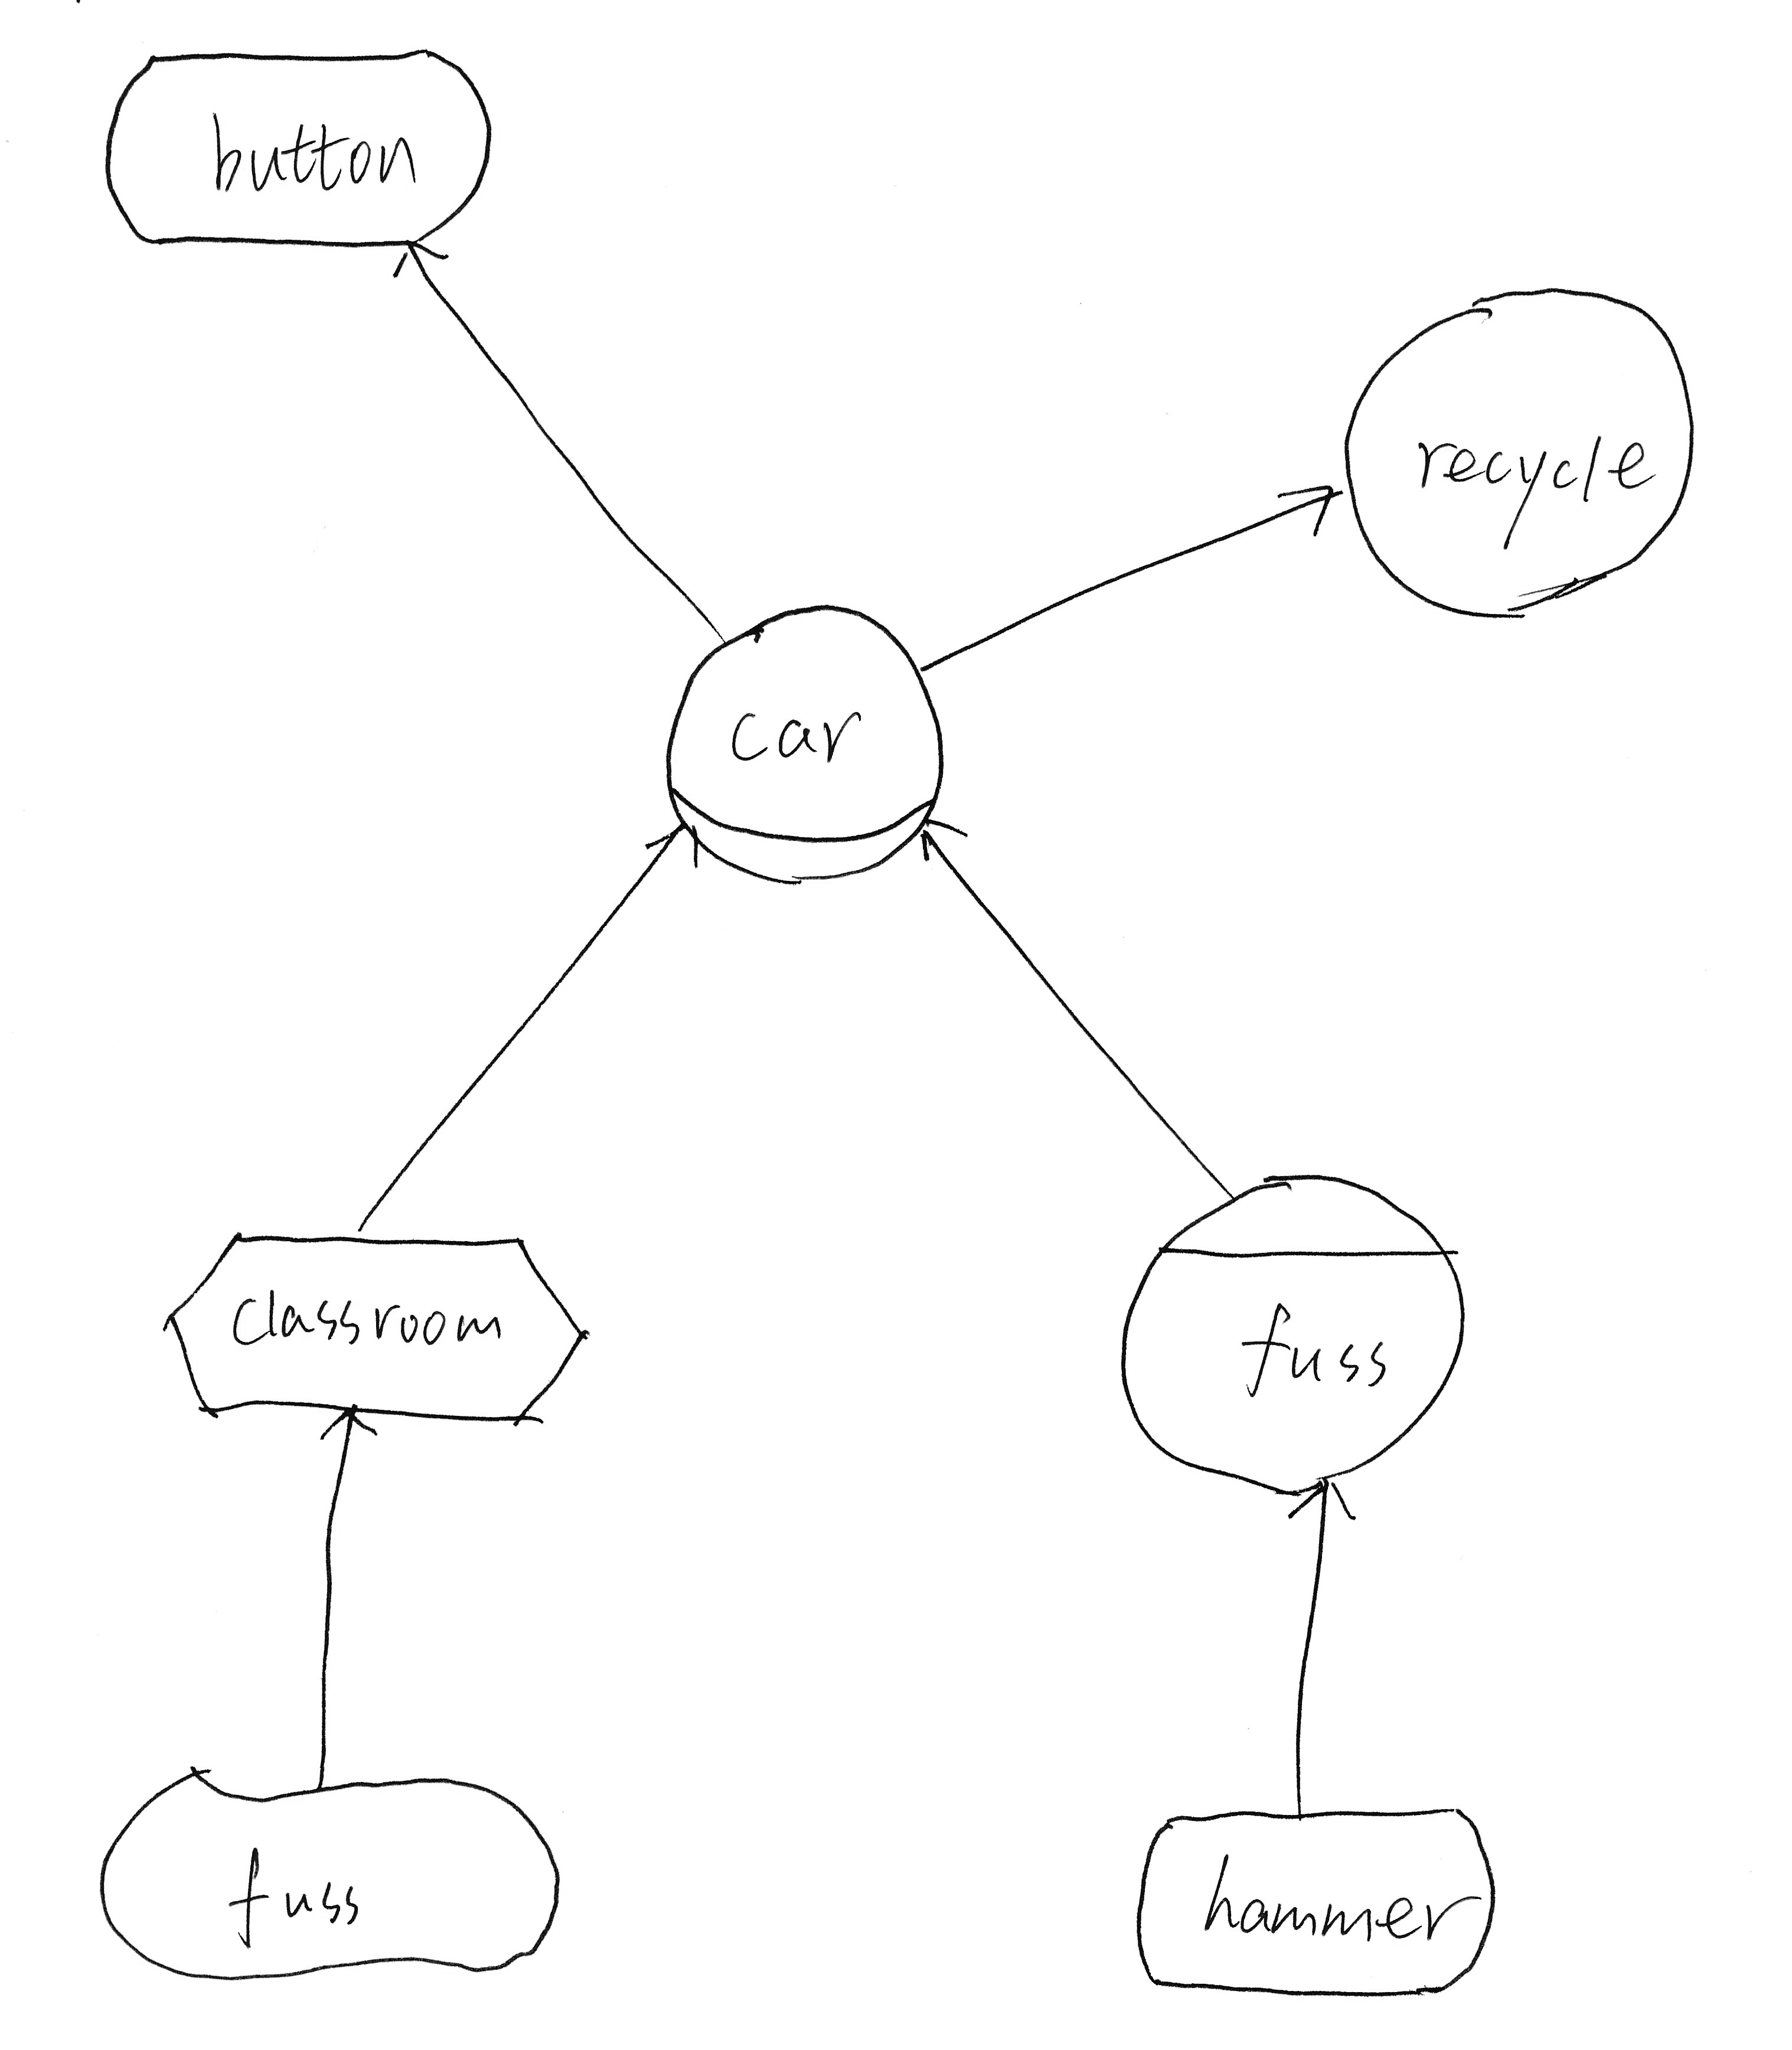actor: (1328, 267, 1707, 633), (146, 1217, 598, 1454)
agent: (1095, 1154, 1482, 1515)
arrow: (1276, 460, 1346, 563), (303, 1396, 410, 1457), (1283, 1475, 1381, 1534), (361, 235, 465, 288), (631, 819, 709, 884), (912, 811, 974, 875)
goal: (75, 24, 502, 261), (1107, 1773, 1524, 2013)
quality: (64, 1747, 572, 1991)
role: (650, 577, 966, 891)
